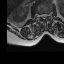CCS_normal: (43, 12, 45, 20)
LFS_stenosis: (47, 12, 49, 18)
LLS_normal: (45, 12, 47, 19)
RFS_stenosis: (38, 12, 41, 19)
RLS_normal: (41, 13, 43, 20)
